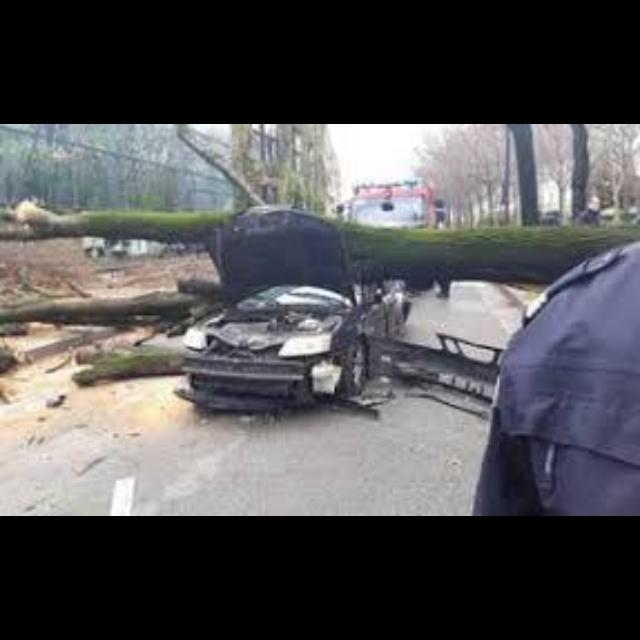Fallen Tree: (0, 191, 639, 293)
